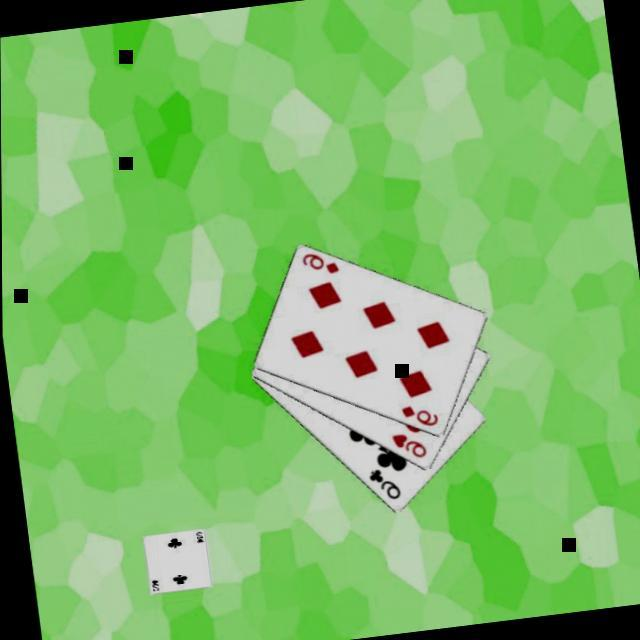6D: (296, 249, 341, 282), (396, 401, 440, 434)
9C: (363, 465, 403, 507)
9H: (386, 430, 428, 466)
